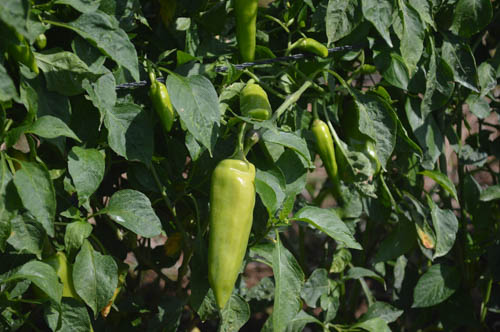ChiliPepper: (210, 161, 259, 316), (313, 124, 340, 184), (238, 86, 274, 127), (152, 82, 179, 133), (235, 3, 253, 65)
